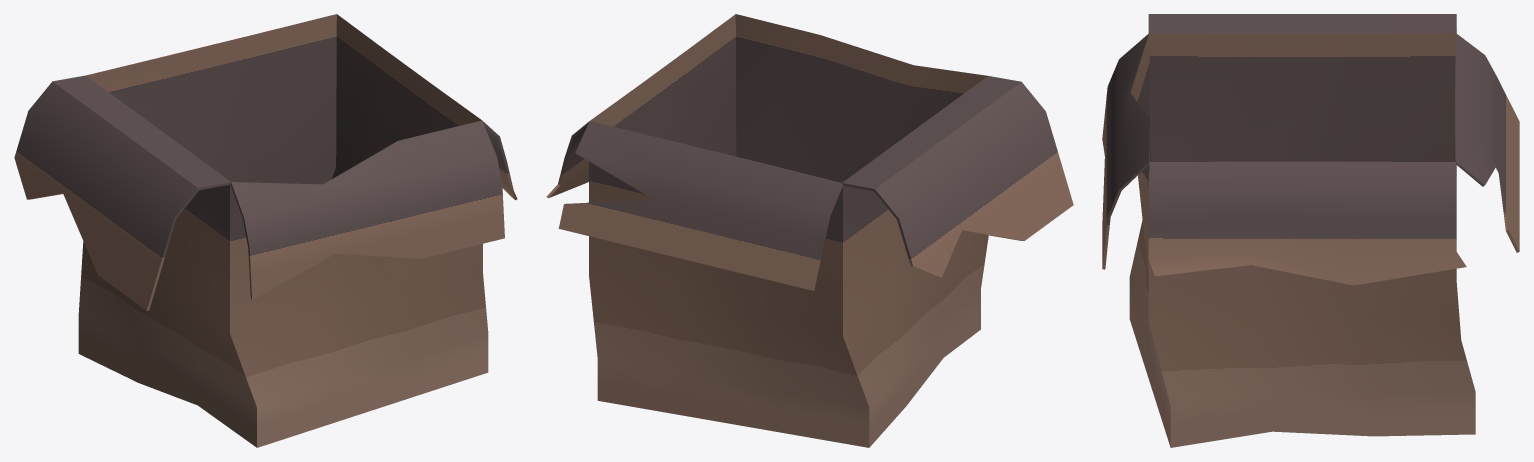
File: caja.fbx
The picture shows the model from 3 angles, left to right: view 1: azimuth 30°, elevation 25°; view 2: azimuth 150°, elevation 25°; view 3: azimuth 270°, elevation 25°; orthographic projection. The views are drawn at different scales.
Parts seen in each view (by area): view 1: caja; view 2: caja; view 3: caja.
Boxes of the visible parts, x1,y1,x2,y2 form: caja: (14, 14, 517, 447); caja: (546, 14, 1073, 447); caja: (1102, 14, 1519, 447).
Bounding box in the file's own units: 137 × 94.29 × 126.
